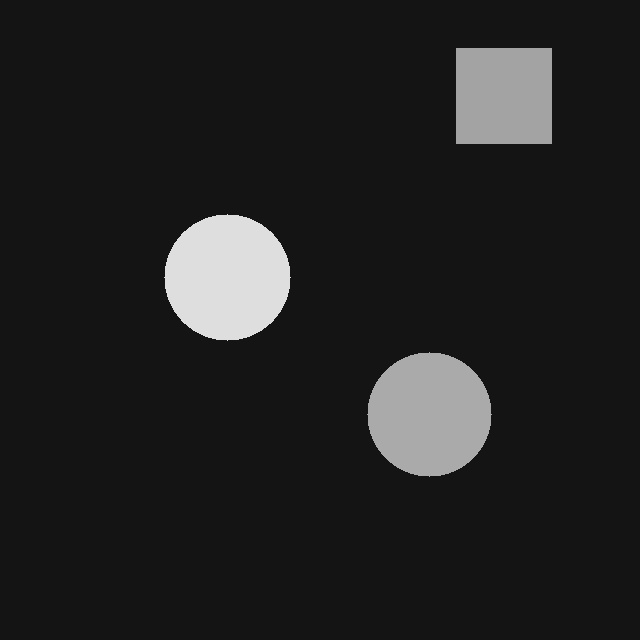circle: (164, 214, 290, 340), (367, 352, 491, 476)
square: (456, 48, 551, 143)
